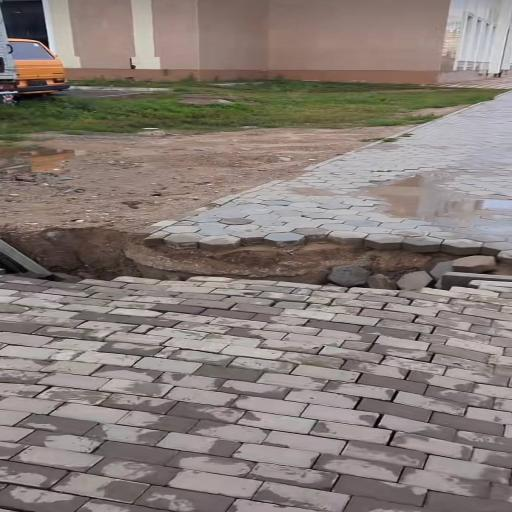construction_fence: (0, 219, 512, 295)
